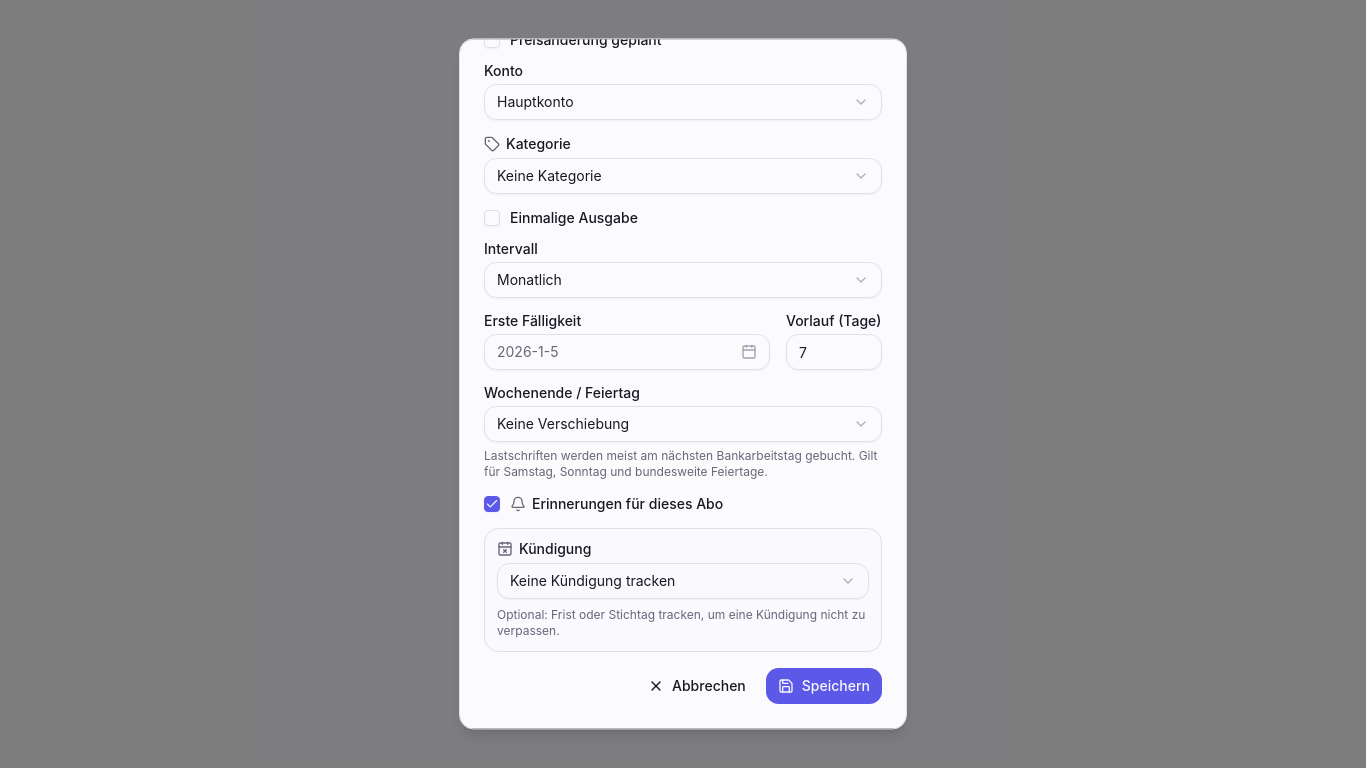
Scenario: SubscriptionDialog › zeigt feldnahe Fehlermeldung bei ungueltigem Legacy-Datum
The width and height of the screenshot is (1366, 768).
(page scrolled)
Click the button "Speichern": (824, 686) [766,668,882,704]
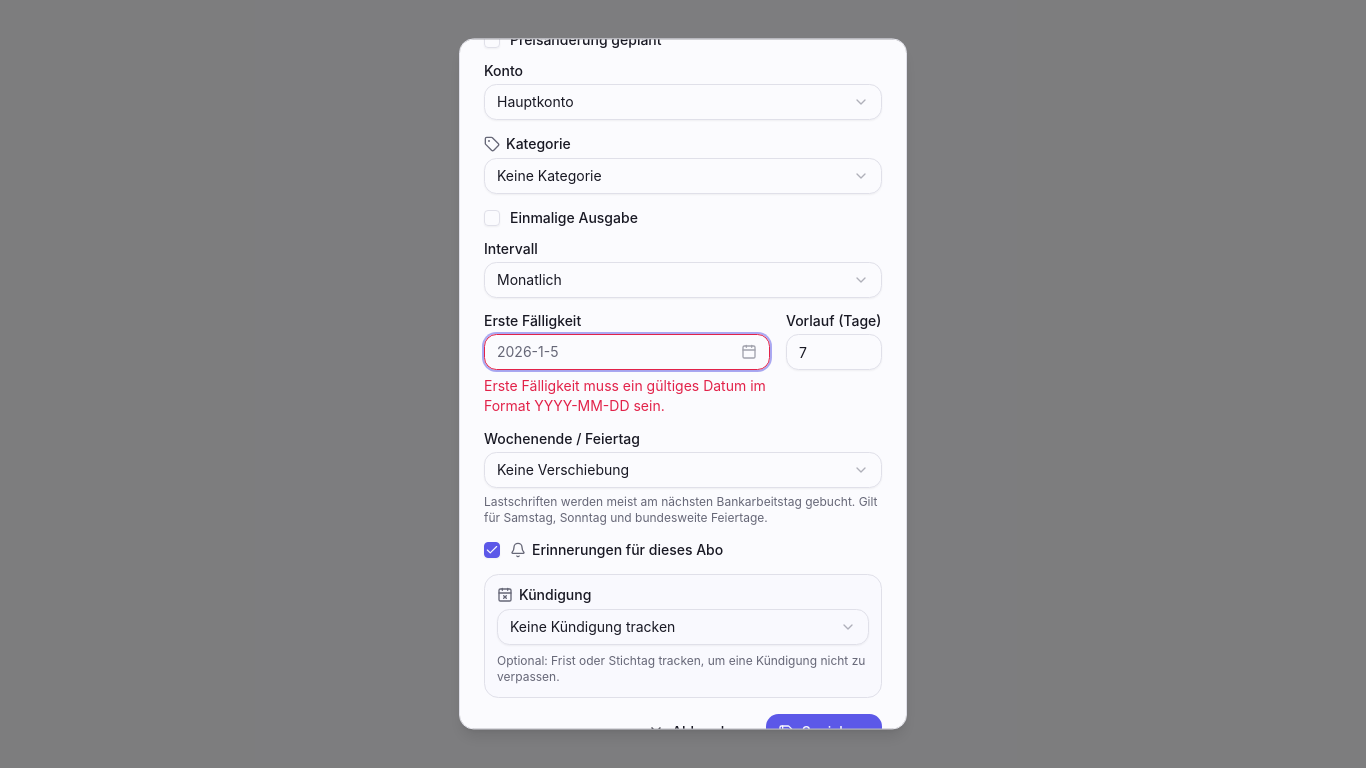
Expected: the text "Erste Fälligkeit muss ein gültiges Datum im Format YYYY-MM-DD sein." is shown, [484,376,770,416]
